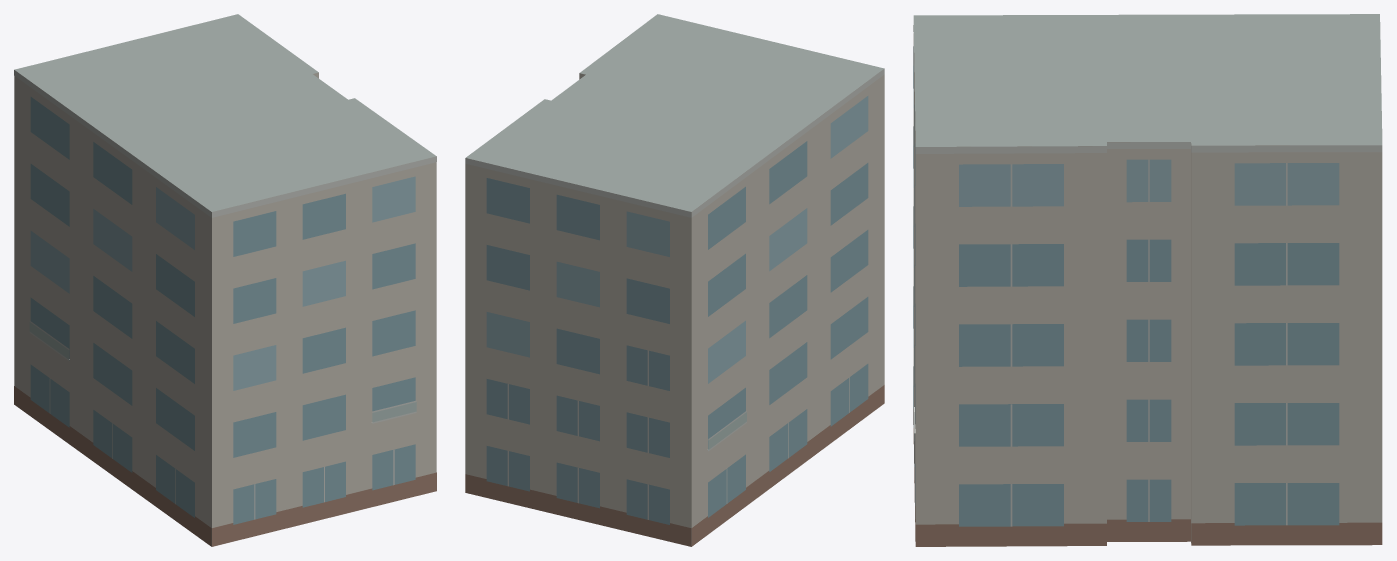
Rendered from survey-upis-32939469.glb.
3 renders of one model, left to right at view 1: azimuth 30°, elevation 25°; view 2: azimuth 150°, elevation 25°; view 3: azimuth 270°, elevation 25°, orthographic. The views are drawn at different scales.
Parts seen in each view (by area): view 1: survey-upis-32939469.tmp; view 2: survey-upis-32939469.tmp; view 3: survey-upis-32939469.tmp.
Boxes of the visible parts, x1,y1,x2,y2 form: survey-upis-32939469.tmp: (14,14,436,546); survey-upis-32939469.tmp: (465,14,884,546); survey-upis-32939469.tmp: (913,14,1382,546).
Size of the model in its own units: 9.95 by 13.9 by 14.79.
